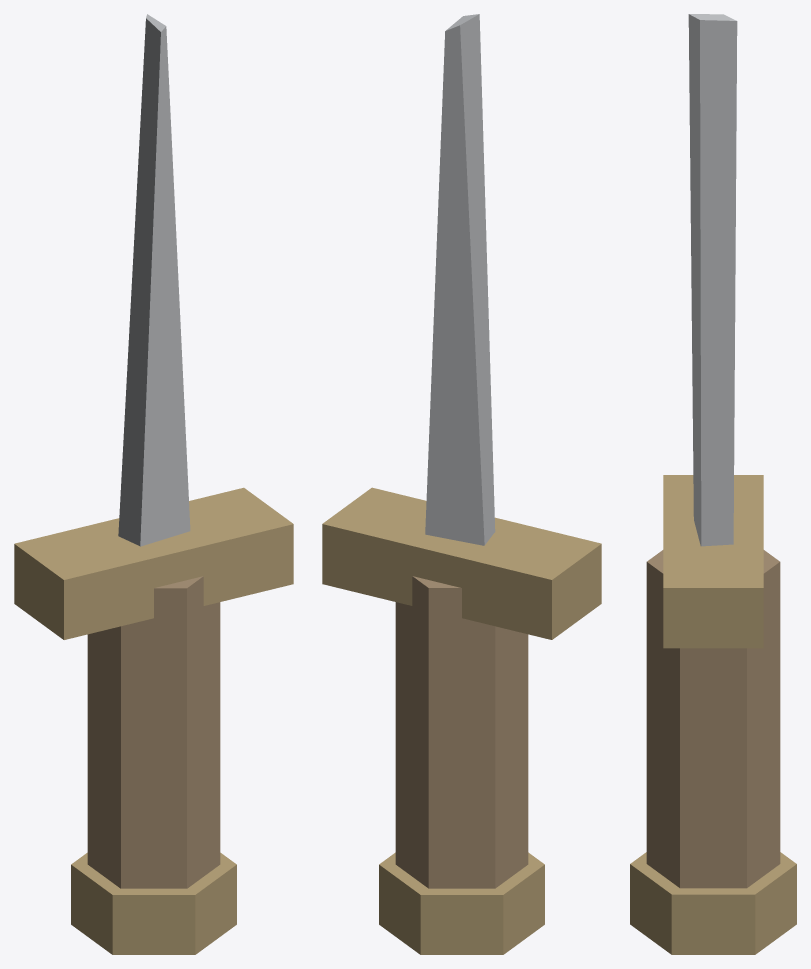
File: sabre.glb
The picture shows the model from 3 angles, left to right: view 1: azimuth 30°, elevation 25°; view 2: azimuth 150°, elevation 25°; view 3: azimuth 270°, elevation 25°; orthographic projection.
Visible parts, largest first — view 1: sabre; view 2: sabre; view 3: sabre.
Part boxes in pixels (bbox=[...]): sabre: bbox=[14, 14, 293, 954]; sabre: bbox=[322, 14, 601, 954]; sabre: bbox=[630, 14, 796, 954].
Size of the model in its own units: 0.16 by 0.6012 by 0.1.
